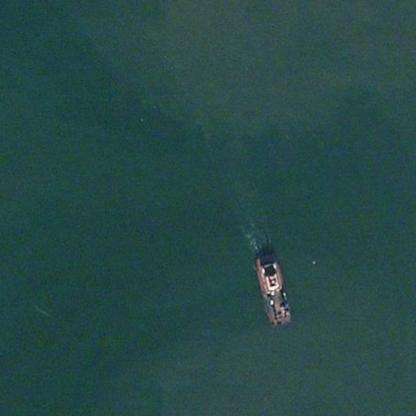ship: (249, 243, 298, 330)
